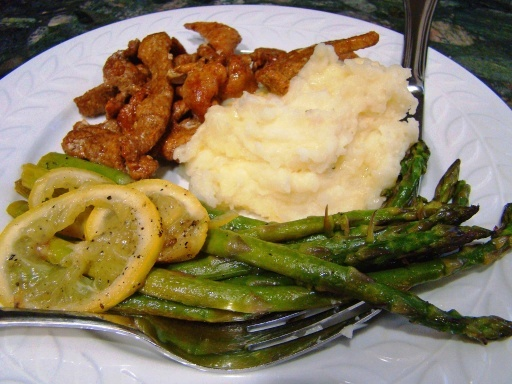background: (0, 12, 410, 206)
